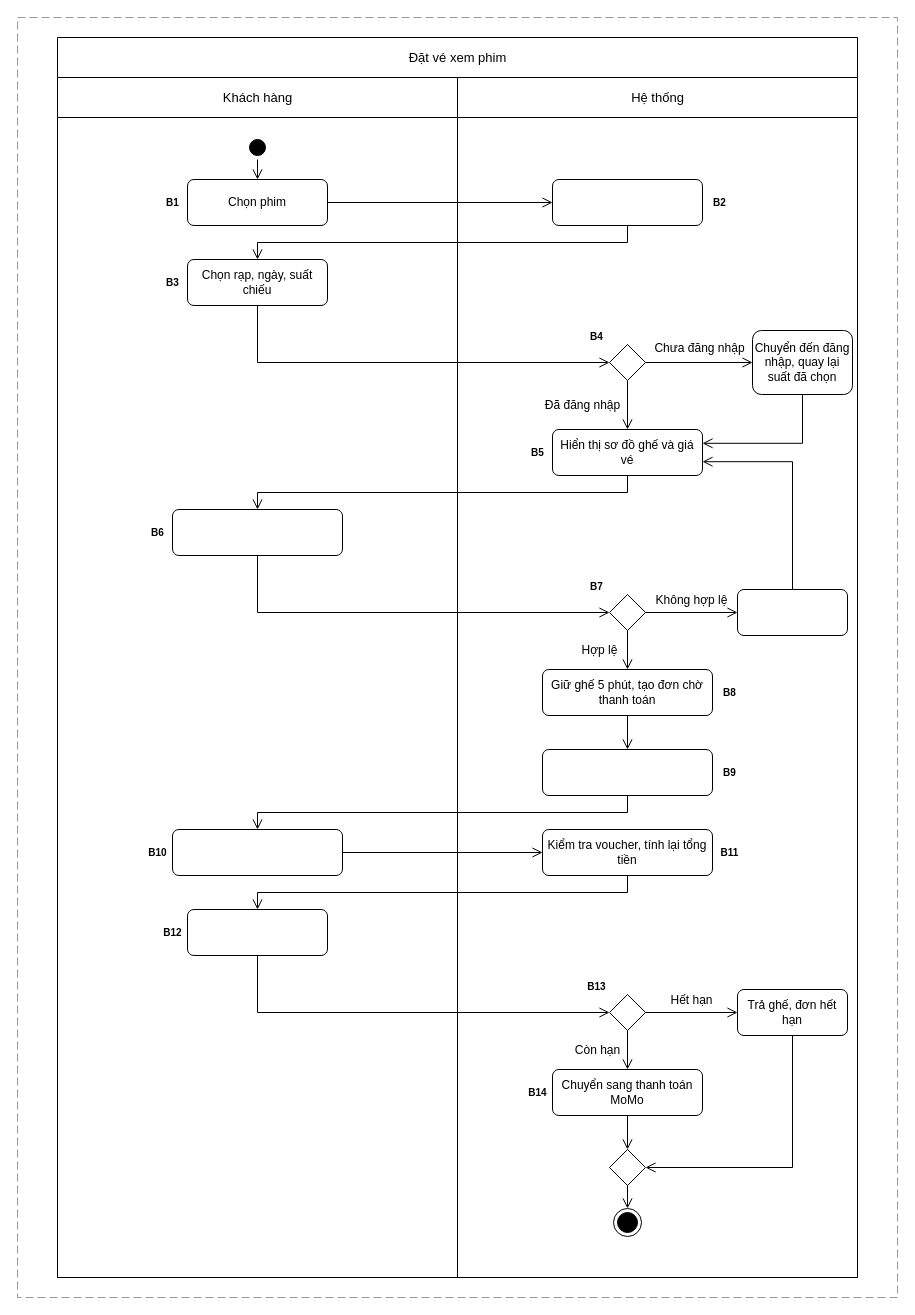
Image size: 915x1315. Some labels were removed from this diagram. Each missing label, with the centre of its shape:
Chọn combo, nhập voucher (tùy chọn): point (257, 852)
Chọn ghế (1–8 ghế, ghế đôi chọn đủ cặp): point (257, 532)
Chọn Thanh toán: point (257, 932)
Hiển thị chi tiết phim và lịch chiếu: point (627, 202)
Hiển thị đơn hàng và đồng hồ giữ ghế: point (627, 772)
Thông báo lý do: point (792, 612)
